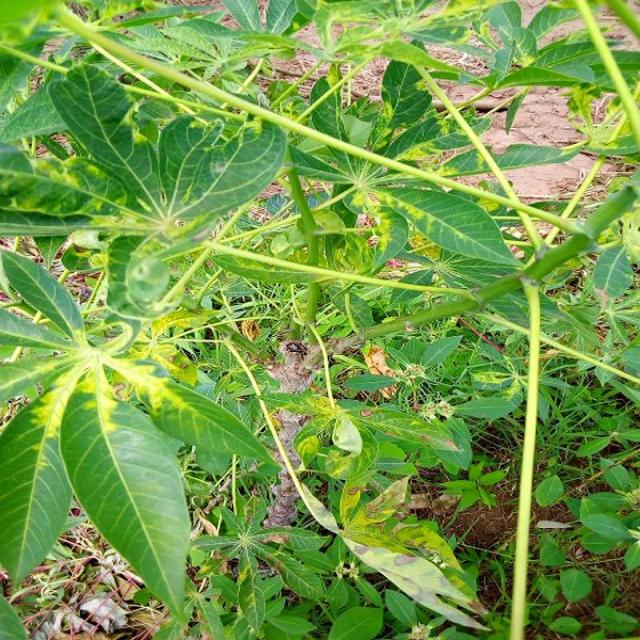cassava leaf: (0, 1, 638, 637), (58, 368, 192, 630)
